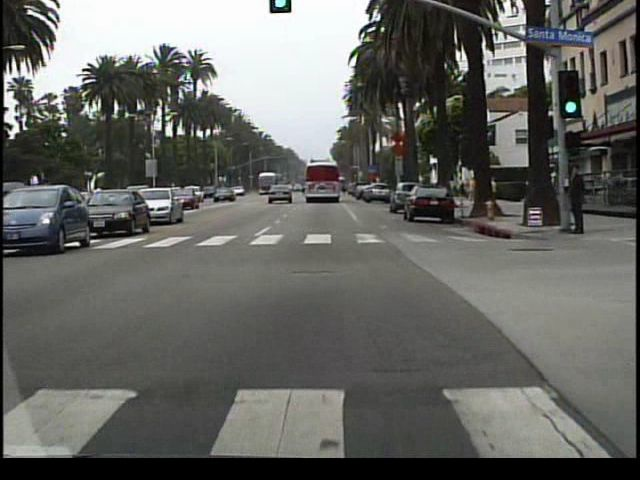person: (562, 159, 587, 239)
